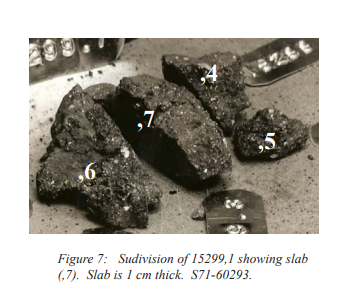Breccia: (38, 84, 150, 225), (112, 59, 224, 187), (179, 45, 265, 121), (228, 106, 296, 168)
